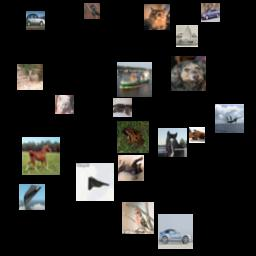airplane: (76, 163, 114, 201), (215, 104, 244, 133), (19, 184, 45, 210)
automobile: (158, 214, 193, 249), (26, 11, 45, 30), (201, 3, 220, 22)
bird: (122, 202, 154, 234), (84, 3, 100, 19)
cat: (118, 155, 144, 181), (144, 4, 170, 30), (113, 98, 132, 117), (55, 95, 74, 114)
deer: (17, 64, 43, 90)
dog: (171, 56, 206, 91)
frog: (117, 121, 149, 153)
ship: (117, 62, 152, 97), (176, 25, 198, 47)
truck: (189, 127, 205, 143)
